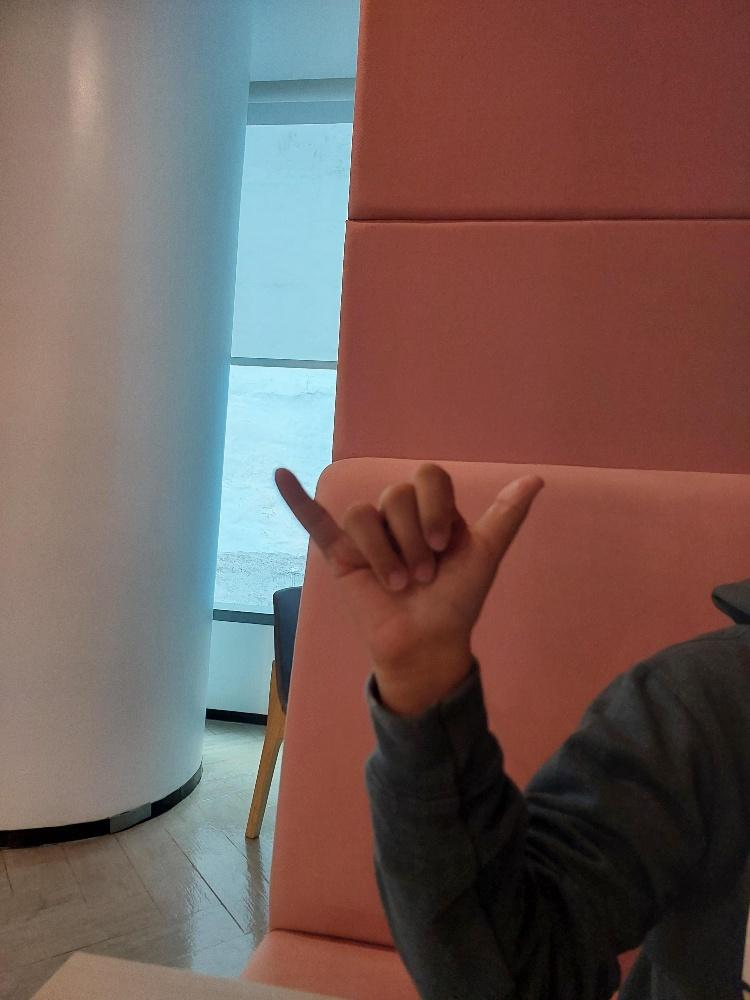y: (266, 452, 556, 677)
